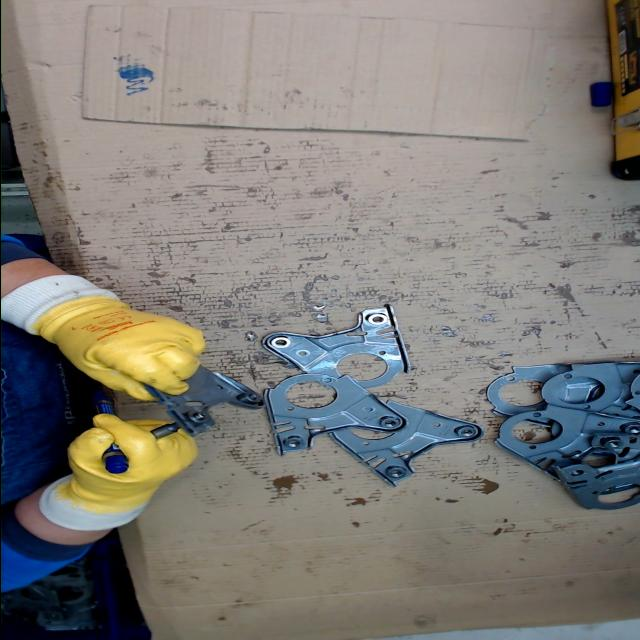hands: (34, 294, 206, 402), (62, 412, 200, 510)
